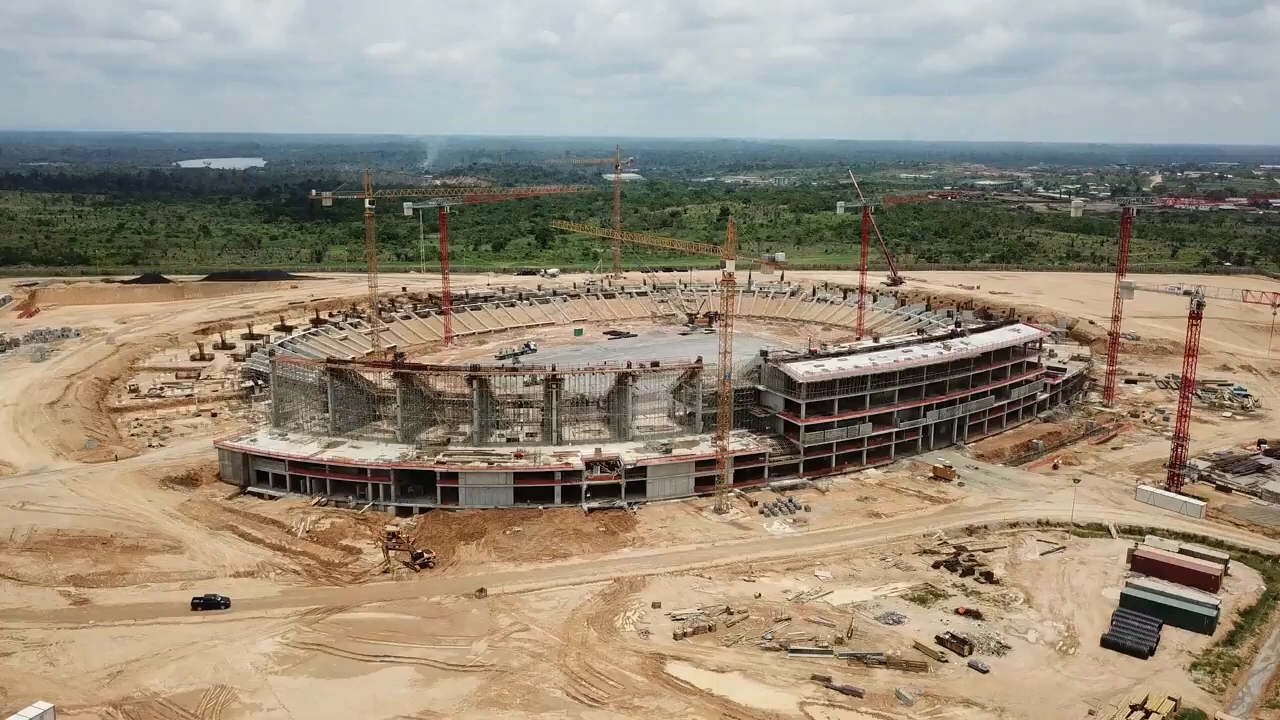ismakinesi: (379, 534, 443, 579)
kamyon: (494, 339, 541, 360)
kamyonet: (192, 588, 235, 614)
